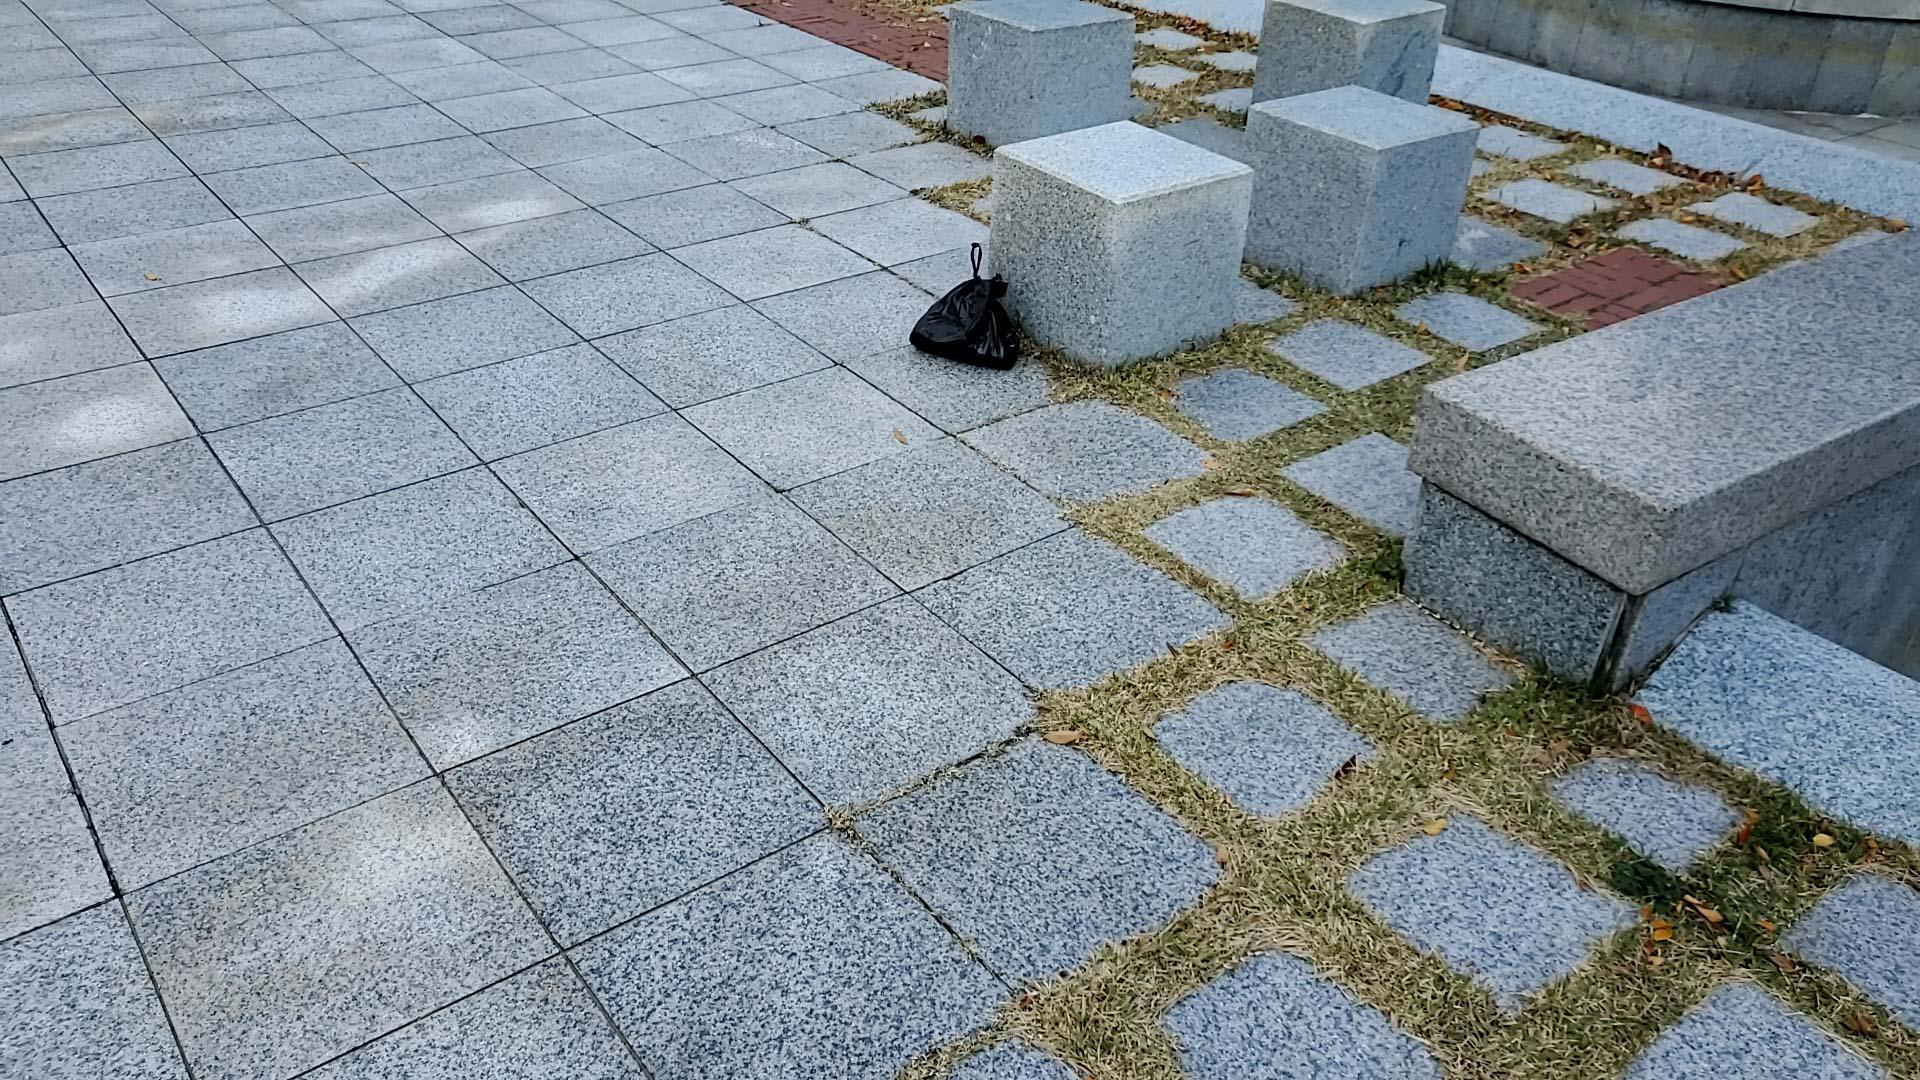black_bag: (899, 232, 1026, 373)
